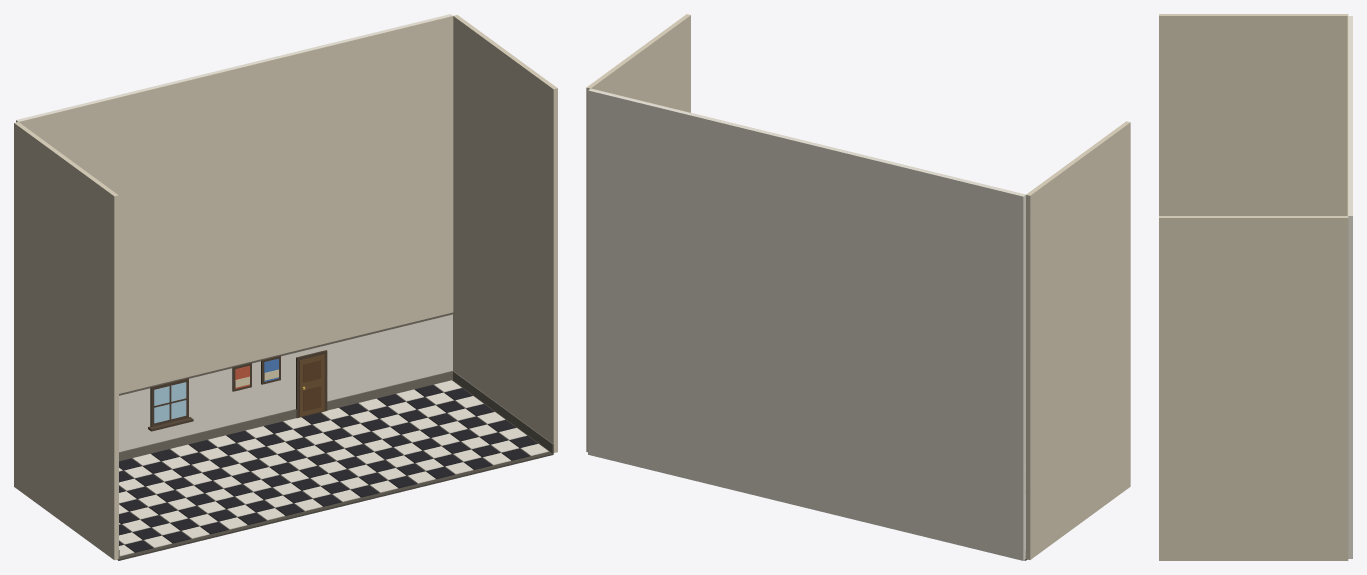
Rendered from room_franca_stone.glb.
The picture shows the model from 3 angles, left to right: view 1: azimuth 30°, elevation 25°; view 2: azimuth 150°, elevation 25°; view 3: azimuth 270°, elevation 25°; orthographic projection. The views are drawn at different scales.
Visible parts, largest first — view 1: room; view 2: room; view 3: room.
Part boxes in pixels (box(x1,y1,x2,y2)): room: box(14, 14, 557, 560); room: box(586, 14, 1130, 560); room: box(1159, 14, 1352, 560).
Bounding box in the file's own units: 30.6 × 24.11 × 12.3.
